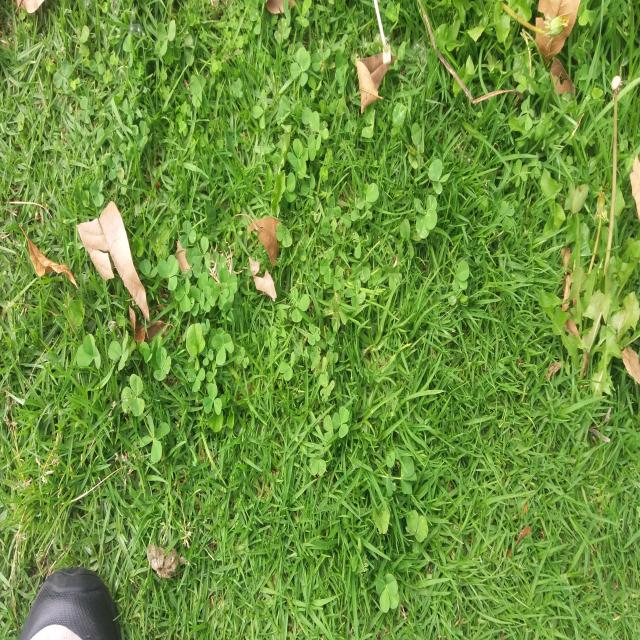Four Leaf Clover: (140, 416, 170, 463), (414, 197, 437, 239), (427, 159, 450, 194), (290, 47, 310, 86), (190, 74, 210, 112)
